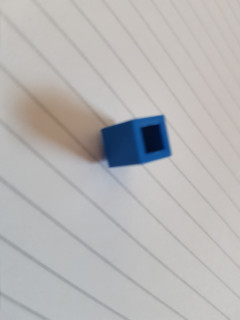1x1 blue: (98, 113, 174, 170)
